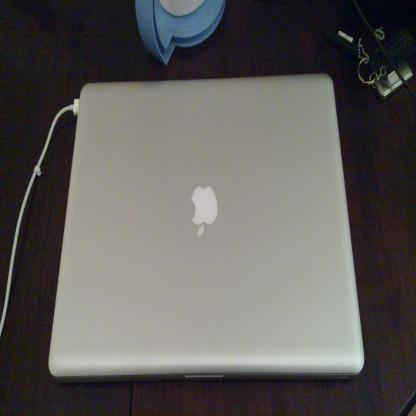board: (48, 72, 364, 382)
